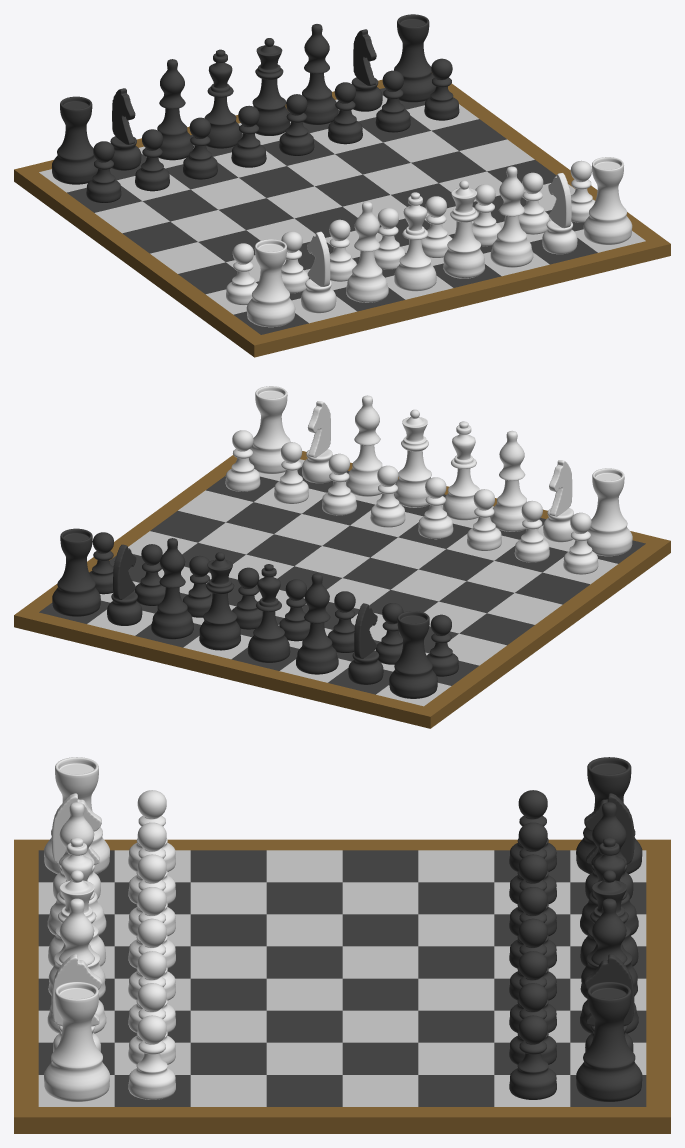
File: chess.fbx
3 renders of one model, top to bottom at view 1: azimuth 30°, elevation 25°; view 2: azimuth 150°, elevation 25°; view 3: azimuth 270°, elevation 25°, orthographic. The views are drawn at different scales.
Visible parts, largest first — view 1: chess:pCube1, chess:nurbsToPoly9, chess:nurbsToPoly8, chess:nurbsToPoly5, chess:nurbsToPoly28, chess:nurbsToPoly7, chess:nurbsToPoly29, chess:nurbsToPoly26, chess:nurbsToPoly27, chess:nurbsToPoly2, chess:nurbsToPoly25, chess:nurbsToPoly3 (+21 smaller); view 2: chess:pCube1, chess:nurbsToPoly7, chess:nurbsToPoly5, chess:nurbsToPoly9, chess:nurbsToPoly2, chess:nurbsToPoly8, chess:nurbsToPoly3, chess:nurbsToPoly25, chess:nurbsToPoly1, chess:nurbsToPoly28, chess:nurbsToPoly29, chess:nurbsToPoly26 (+21 smaller); view 3: chess:pCube1, chess:nurbsToPoly7, chess:nurbsToPoly8, chess:nurbsToPoly13, chess:nurbsToPoly17, chess:nurbsToPoly5, chess:nurbsToPoly9, chess:nurbsToPoly25, chess:nurbsToPoly29, chess:nurbsToPoly26, chess:nurbsToPoly3, chess:nurbsToPoly2 (+21 smaller).
Boxes of the visible parts, x1,y1,x2,y2 form: chess:pCube1: (14, 79, 670, 357); chess:nurbsToPoly9: (246, 239, 295, 327); chess:nurbsToPoly8: (583, 157, 632, 244); chess:nurbsToPoly5: (51, 96, 97, 184); chess:nurbsToPoly28: (443, 180, 485, 278); chess:nurbsToPoly7: (394, 14, 435, 102); chess:nurbsToPoly29: (490, 166, 533, 267); chess:nurbsToPoly26: (346, 201, 388, 302); chess:nurbsToPoly27: (394, 192, 436, 291); chess:nurbsToPoly2: (252, 38, 290, 135); chess:nurbsToPoly25: (302, 24, 338, 124); chess:nurbsToPoly3: (157, 59, 193, 160); chess:pCube1: (14, 451, 670, 728); chess:nurbsToPoly7: (52, 528, 100, 616); chess:nurbsToPoly5: (389, 611, 437, 698); chess:nurbsToPoly9: (587, 468, 632, 556); chess:nurbsToPoly2: (199, 552, 240, 650); chess:nurbsToPoly8: (249, 386, 290, 473); chess:nurbsToPoly3: (296, 573, 338, 674); chess:nurbsToPoly25: (151, 538, 193, 639); chess:nurbsToPoly1: (247, 564, 290, 662); chess:nurbsToPoly28: (394, 409, 431, 507); chess:nurbsToPoly29: (346, 395, 382, 496); chess:nurbsToPoly26: (490, 430, 526, 531); chess:pCube1: (14, 839, 670, 1133); chess:nurbsToPoly7: (576, 981, 642, 1101); chess:nurbsToPoly8: (44, 981, 109, 1101); chess:nurbsToPoly13: (509, 1015, 556, 1099); chess:nurbsToPoly17: (128, 1015, 175, 1099); chess:nurbsToPoly5: (576, 757, 642, 873); chess:nurbsToPoly9: (44, 757, 109, 873); chess:nurbsToPoly25: (580, 898, 638, 1033); chess:nurbsToPoly29: (47, 898, 106, 1033); chess:nurbsToPoly26: (47, 802, 106, 935); chess:nurbsToPoly3: (580, 802, 638, 935); chess:nurbsToPoly2: (580, 870, 637, 998).
Bounding box in the file's own units: 8.27 × 1.99 × 8.27.
